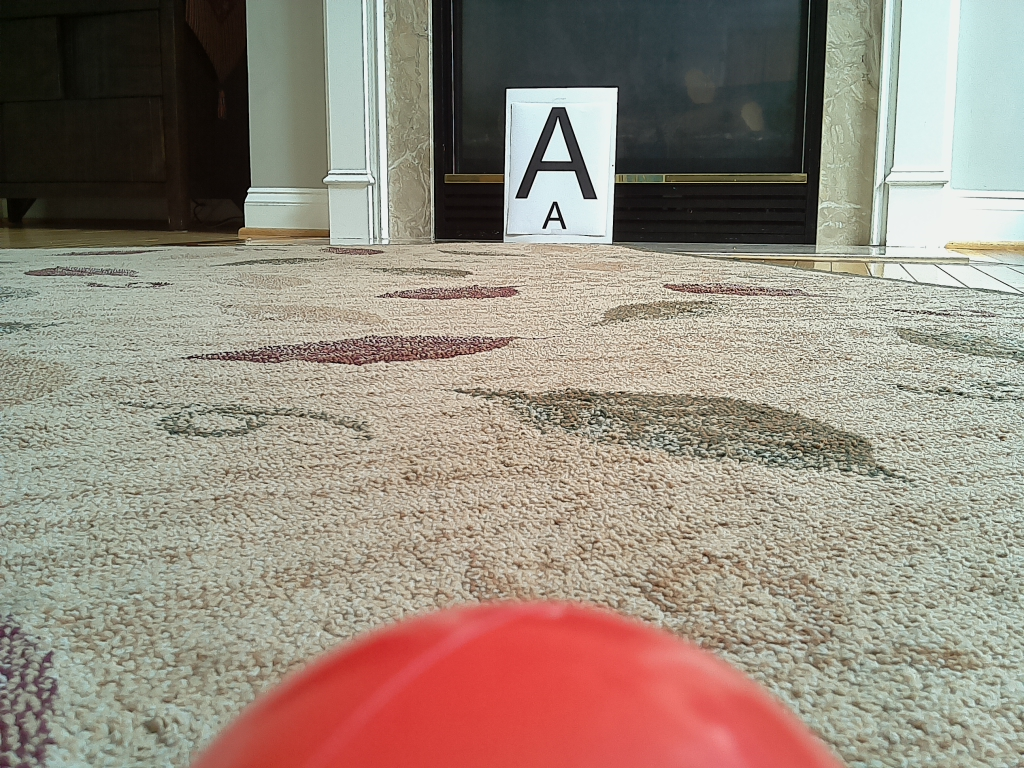letter: (517, 106, 596, 201)
